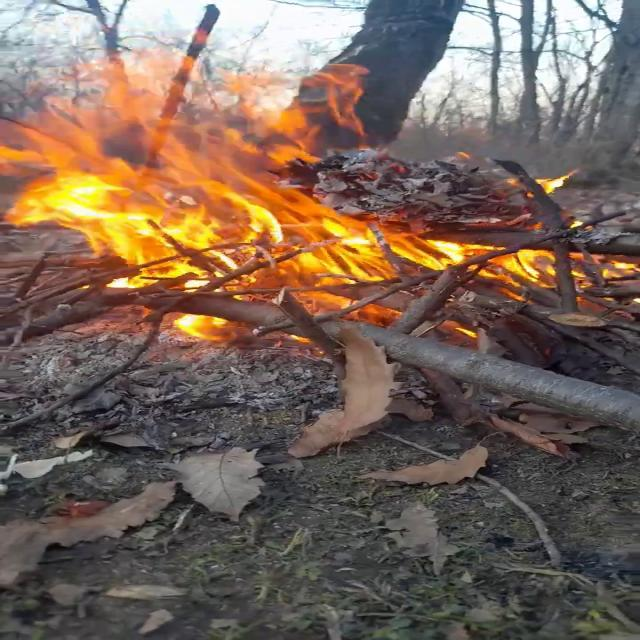Fire: (0, 25, 628, 336)
